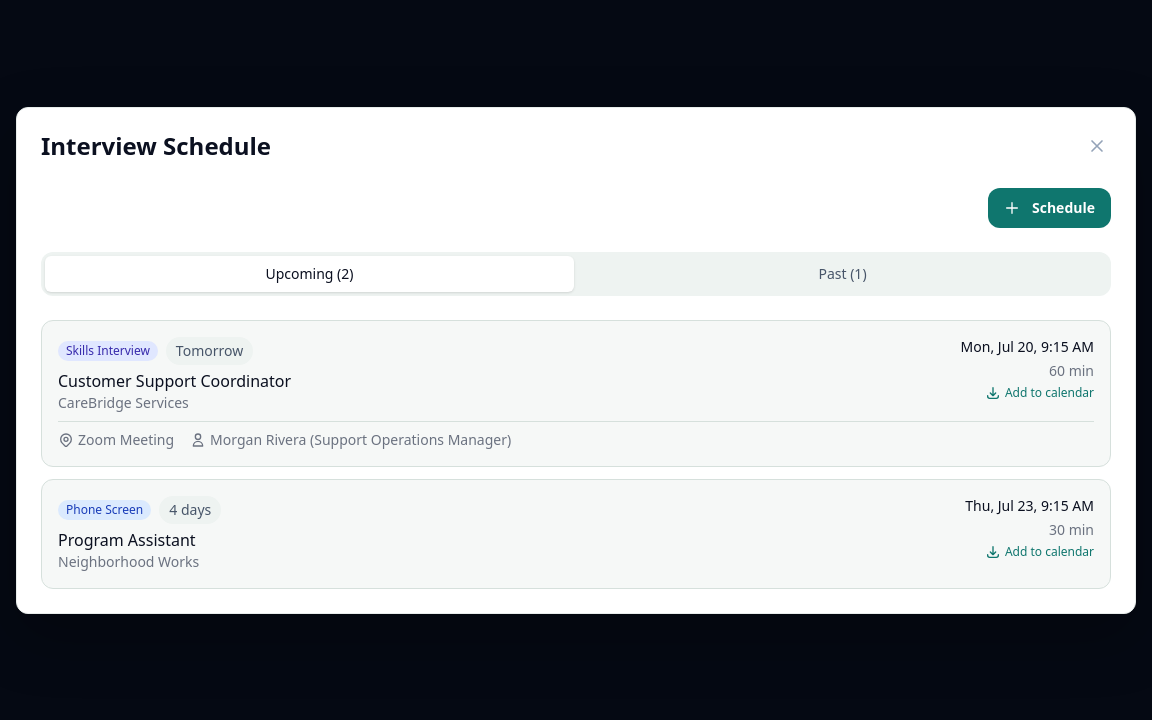
Test: InterviewScheduler › add interview form › closes form when Cancel is clicked
Click the button "Schedule" at [1050, 208], box x1=988 y1=188 x2=1111 y2=228
(page scrolled)
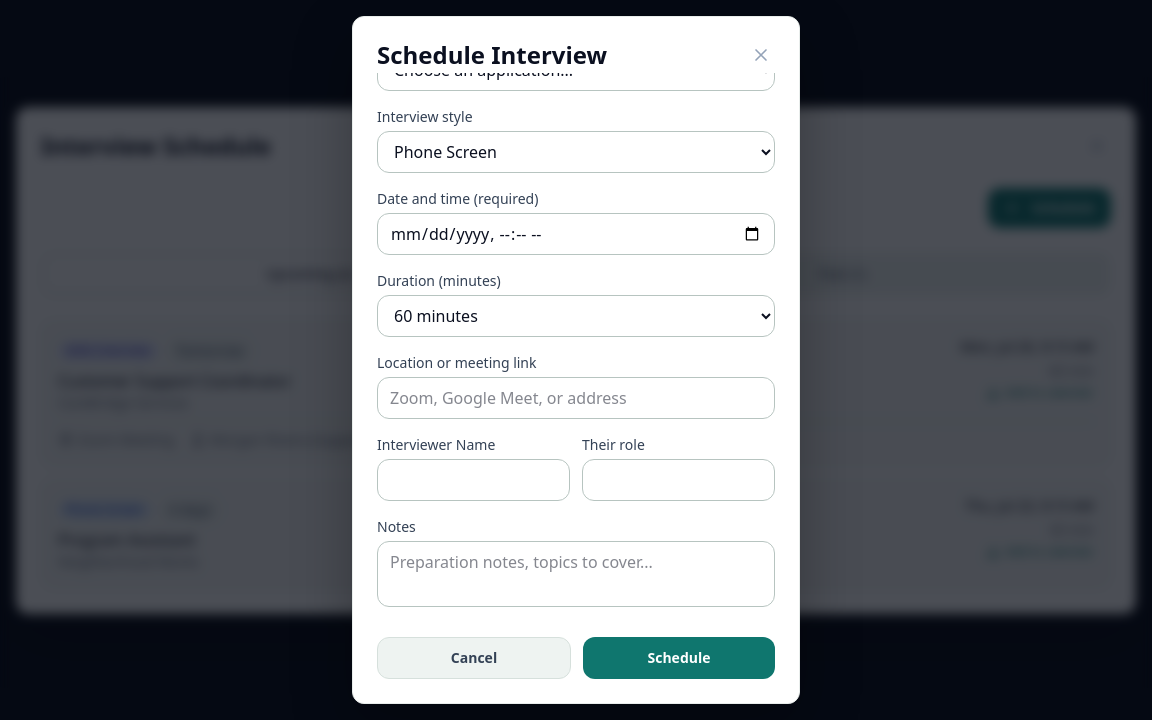
Check: the heading "Schedule Interview" is shown, box x1=377 y1=41 x2=607 y2=70
Click the button "Cancel" at [474, 658], box x1=377 y1=637 x2=571 y2=679
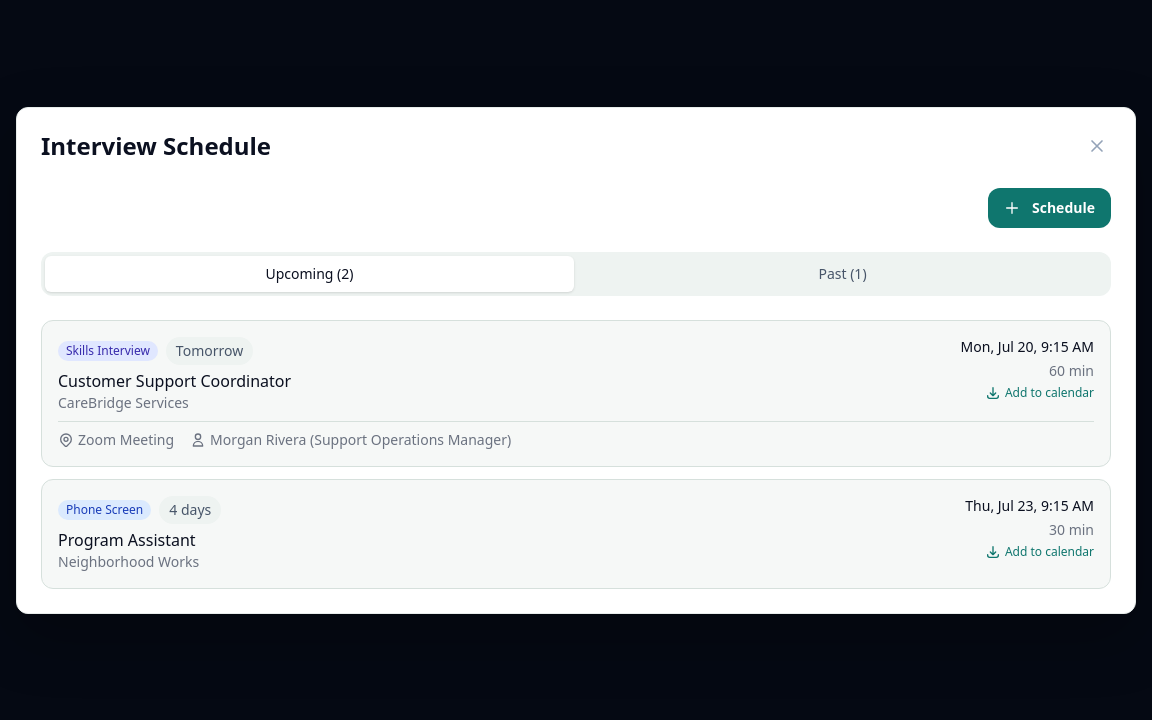
Check: the heading "Schedule Interview" is gone
